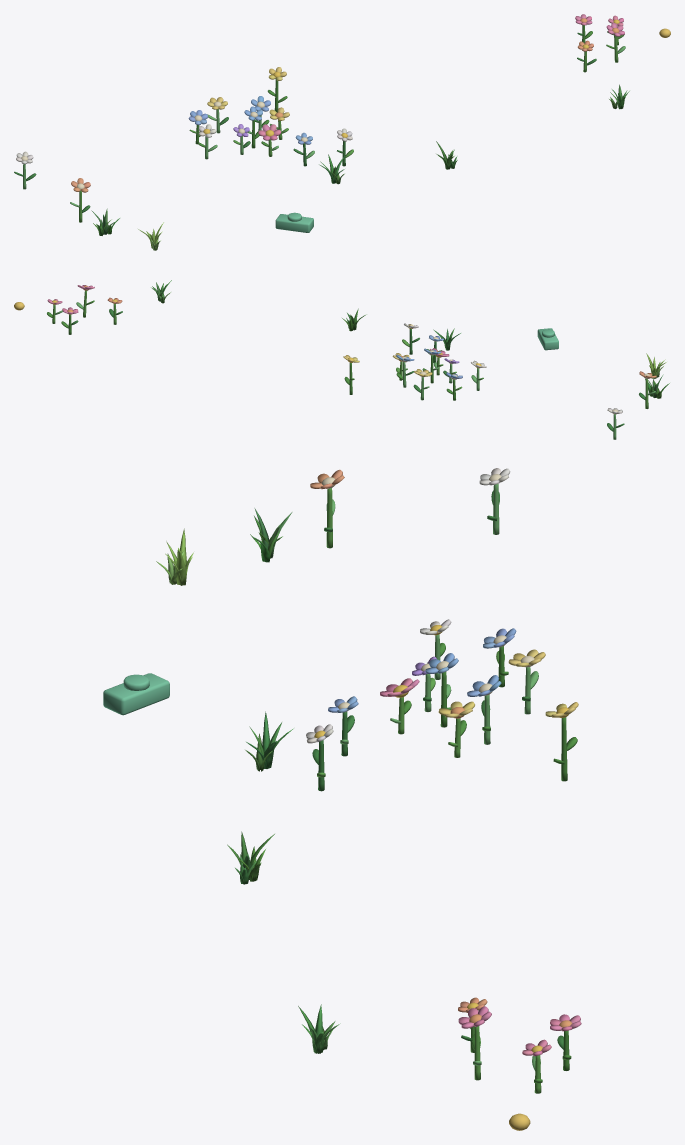
Rendered from W1_FloraRing_9_12.fbx.
3 renders of one model, top to bottom at view 1: azimuth 30°, elevation 25°; view 2: azimuth 150°, elevation 25°; view 3: azimuth 270°, elevation 25°, orthographic. The views are drawn at different scales.
Parts seen in each view (by area): view 1: W1_FloraRing_9_12; view 2: W1_FloraRing_9_12; view 3: W1_FloraRing_9_12.
Boxes of the visible parts, <box> form: W1_FloraRing_9_12: <box>14,14,670,250</box>; W1_FloraRing_9_12: <box>14,280,669,439</box>; W1_FloraRing_9_12: <box>103,468,581,1130</box>.
Bounding box in the file's own units: 3.62 × 0.2952 × 1.24.
